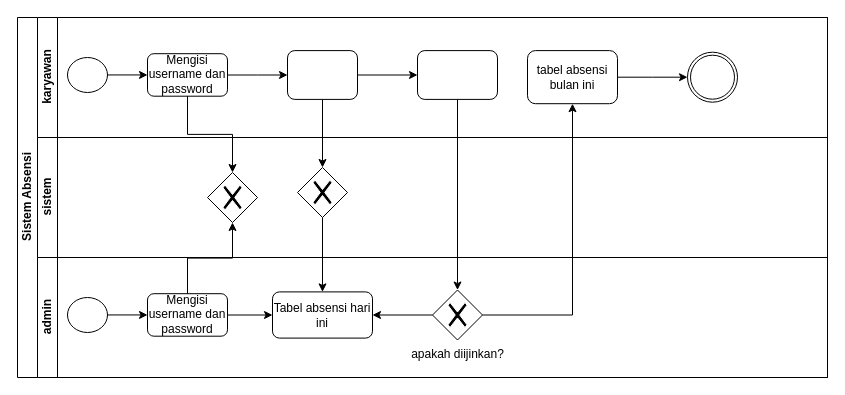
Image size: 845x395. Some labels were removed from this diagram. Each missing label, with the box of its shape:
Cek Login: (206, 172, 258, 222)
Isi form absen untuk ijin/sakit: (416, 50, 498, 99)
scan QR Code untuk absen: (286, 50, 358, 99)
update data absen: (296, 166, 348, 218)
